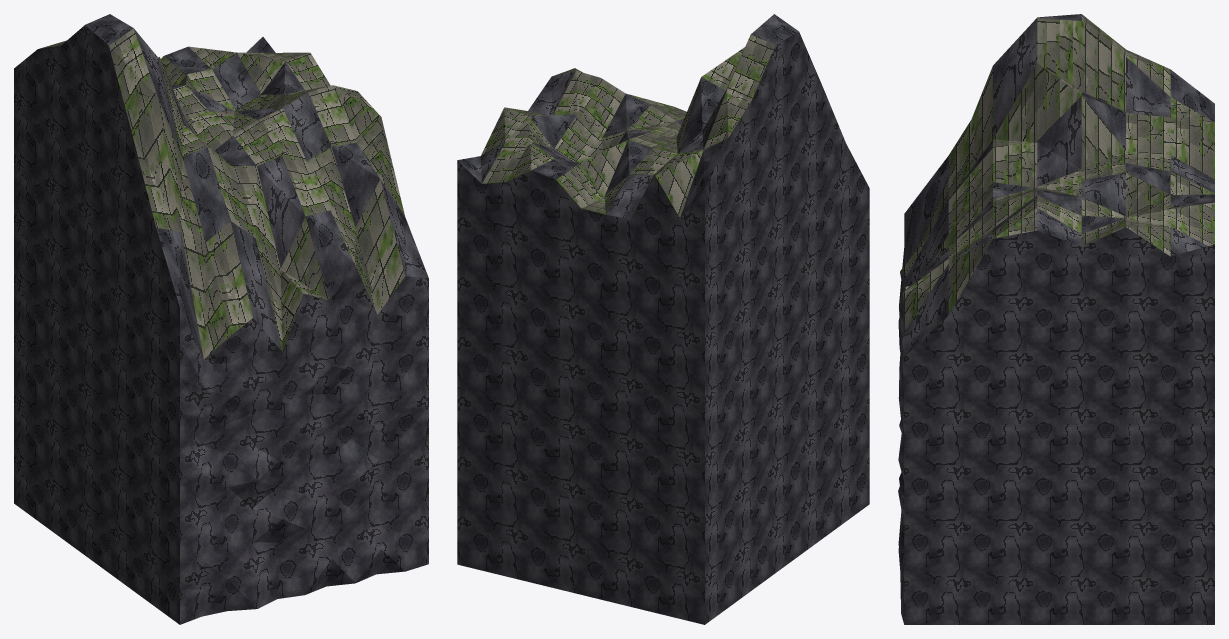
Rendered from monte_c.obj.
3 renders of one model, left to right at view 1: azimuth 30°, elevation 25°; view 2: azimuth 150°, elevation 25°; view 3: azimuth 270°, elevation 25°, orthographic. The views are drawn at different scales.
Parts seen in each view (by area): view 1: monte_c; view 2: monte_c; view 3: monte_c.
Part boxes in pixels (left/top/right/bottom): monte_c: left=14, top=14, right=428, bottom=624; monte_c: left=457, top=14, right=869, bottom=624; monte_c: left=898, top=14, right=1214, bottom=624.
Bounding box in the file's own units: 26 × 53.76 × 30.6.
Materials: 2 (2 with a texture image).
